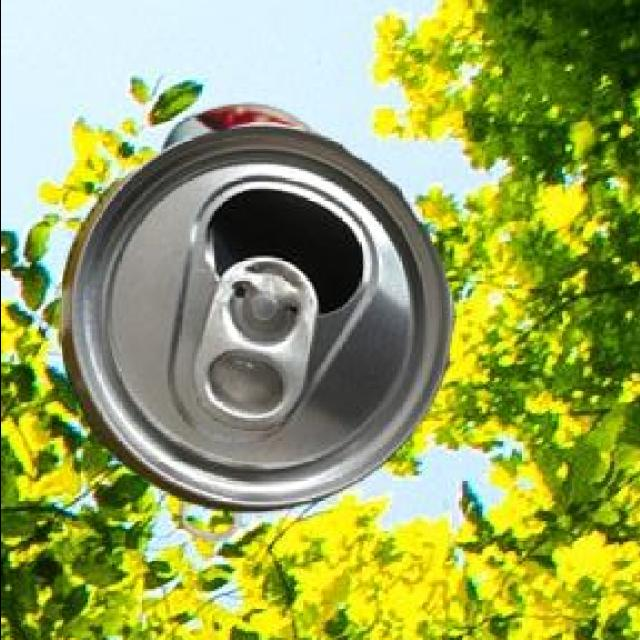logam: (54, 119, 450, 508), (159, 103, 306, 419)
